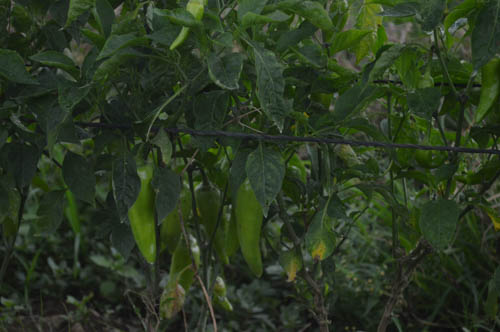ChiliPepper: (127, 166, 160, 262), (231, 180, 262, 276), (195, 189, 232, 260), (168, 2, 203, 57), (472, 58, 498, 128), (167, 184, 190, 244), (174, 248, 194, 291)
